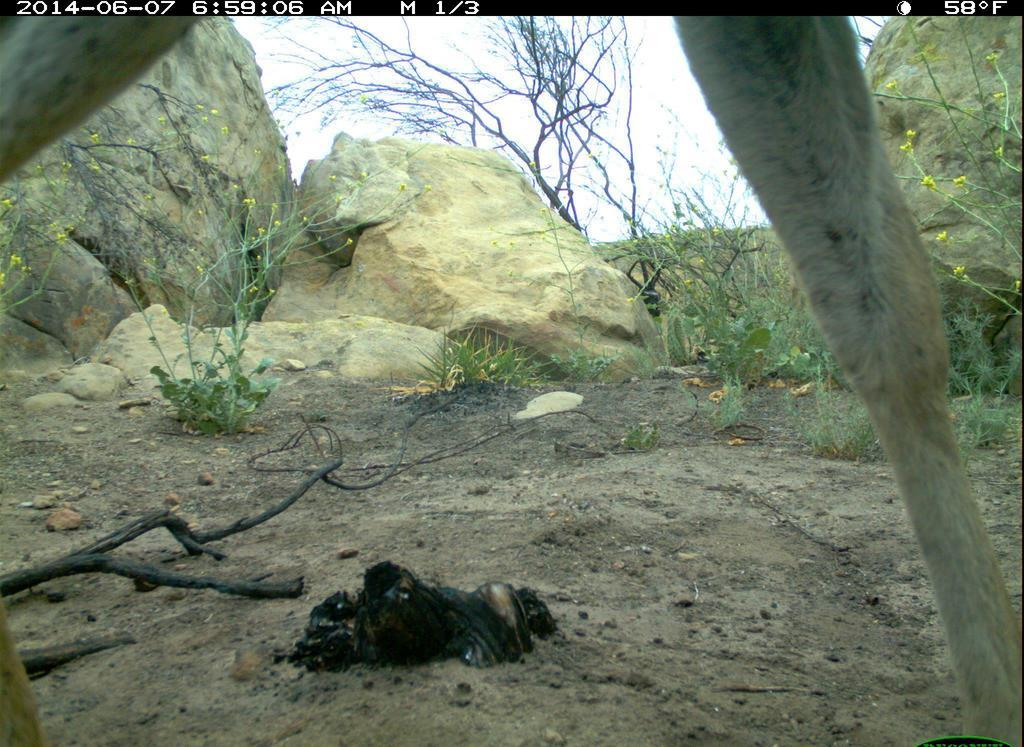deer: (15, 7, 1024, 747)
